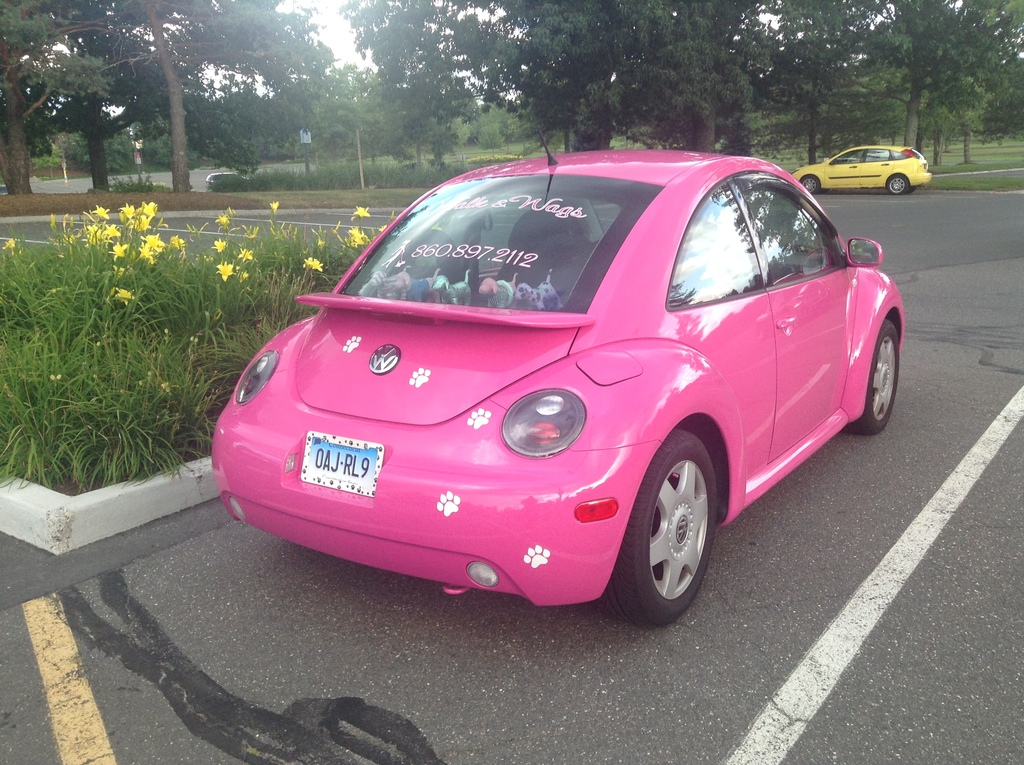Car: (213, 128, 901, 626), (793, 146, 931, 195)
